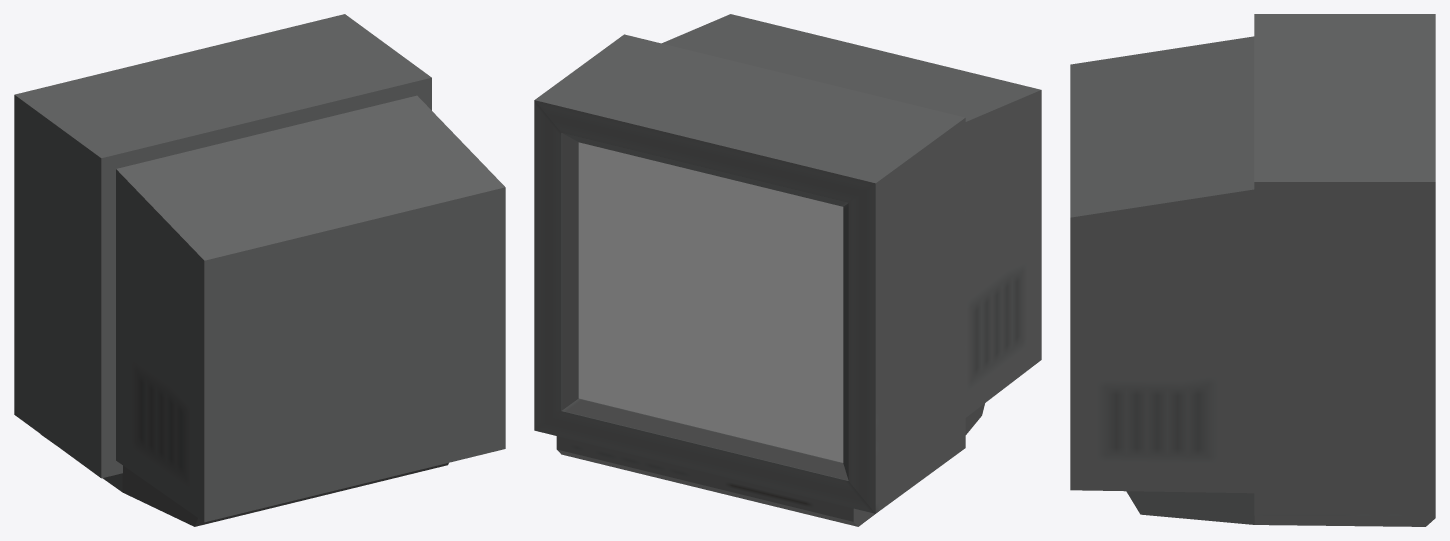
3 views of the same model, side by side, from view 1: azimuth 30°, elevation 25°; view 2: azimuth 150°, elevation 25°; view 3: azimuth 270°, elevation 25° (orthographic). The views are drawn at different scales.
Visible parts, largest first — view 1: tv; view 2: tv; view 3: tv.
Boxes of the visible parts, x1,y1,x2,y2 form: tv: (14,14,505,526); tv: (534,14,1041,526); tv: (1070,14,1435,526).
Bounding box in the file's own units: 173 × 171 × 159.
